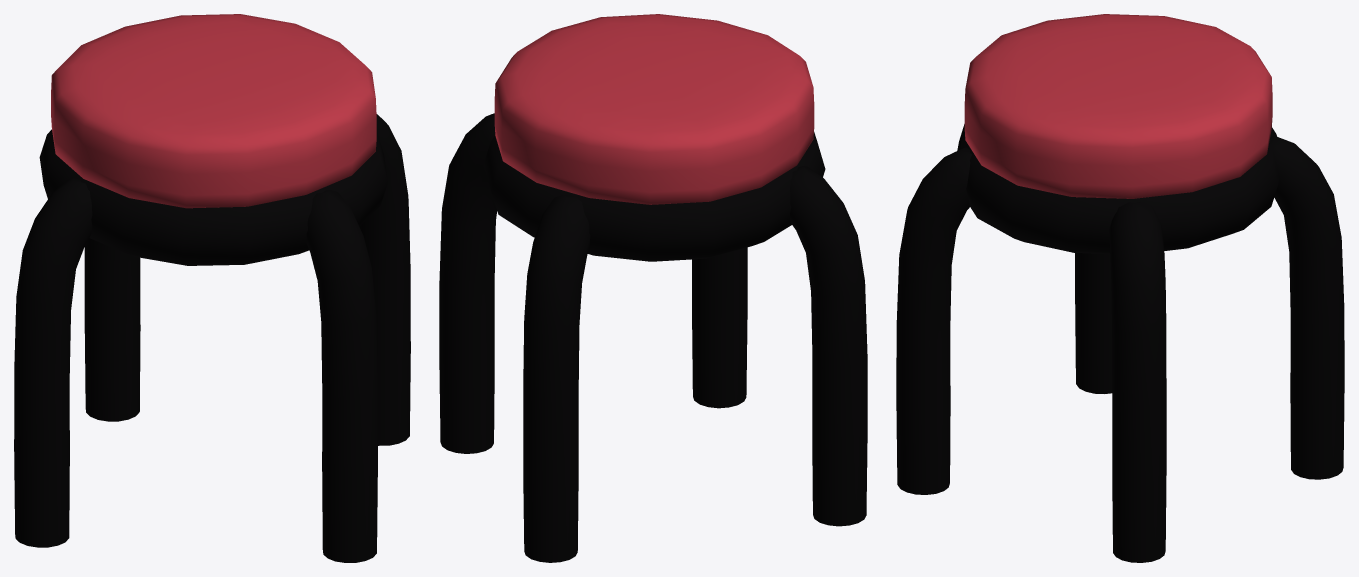
File: chair50s.glb
The picture shows the model from 3 angles, left to right: view 1: azimuth 30°, elevation 25°; view 2: azimuth 150°, elevation 25°; view 3: azimuth 270°, elevation 25°; orthographic projection. The views are drawn at different scales.
Visible parts, largest first — view 1: chair50s; view 2: chair50s; view 3: chair50s.
Part boxes in pixels (x1,y1,x2,y2): chair50s: (14, 14, 410, 562); chair50s: (439, 14, 867, 562); chair50s: (896, 14, 1344, 562).
Size of the model in its own units: 0.763 by 0.7449 by 0.7522.
1 material, 1 textured.
